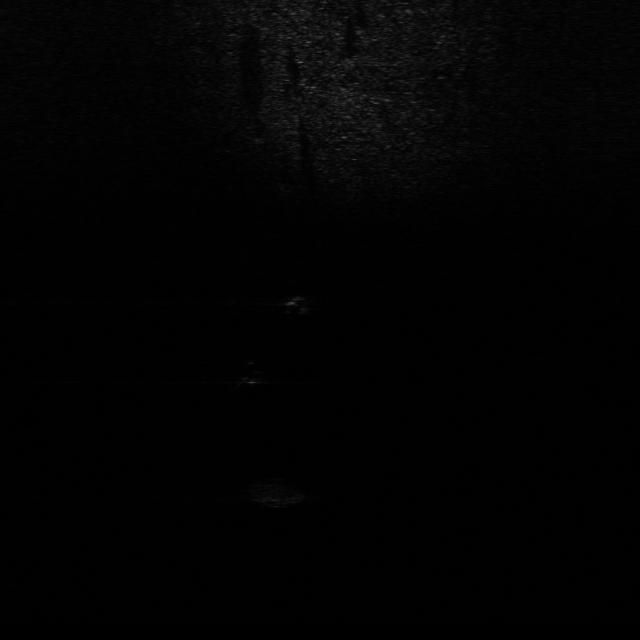ball: (236, 362, 268, 388)
circle cage: (243, 476, 317, 508)
human body: (277, 288, 322, 318)
